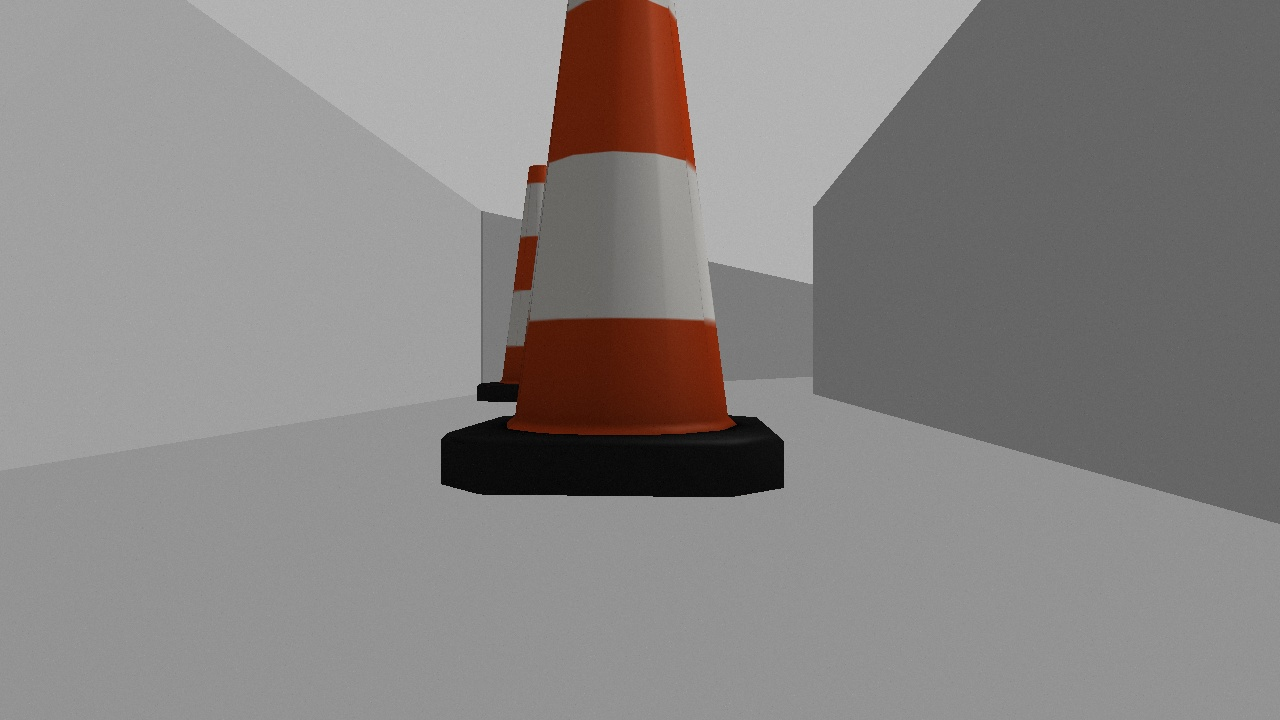barricade: (404, 7, 815, 512), (471, 162, 590, 408)
